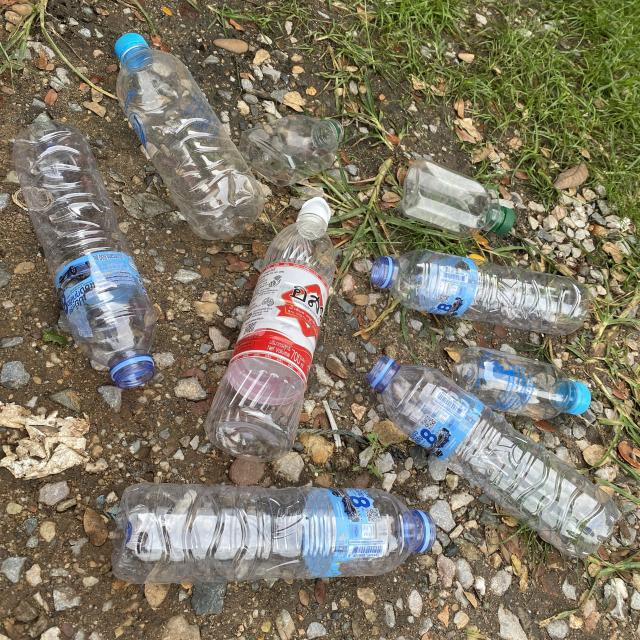plastik: (368, 356, 619, 558), (12, 120, 156, 389), (205, 198, 335, 462), (112, 482, 435, 584), (115, 34, 264, 240), (370, 249, 589, 335), (452, 348, 590, 419), (401, 159, 515, 238), (239, 115, 344, 186)
